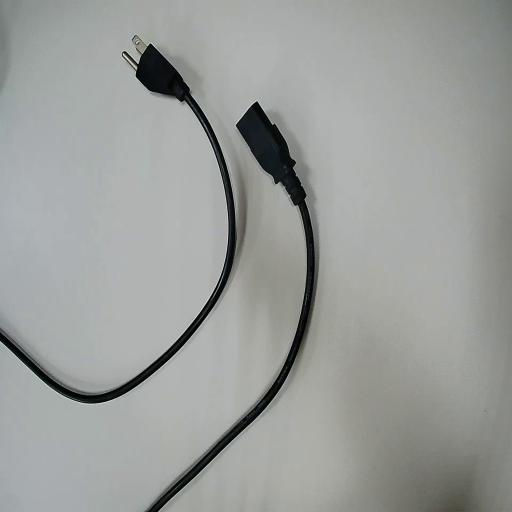wire: (0, 45, 235, 401), (148, 103, 314, 511)
